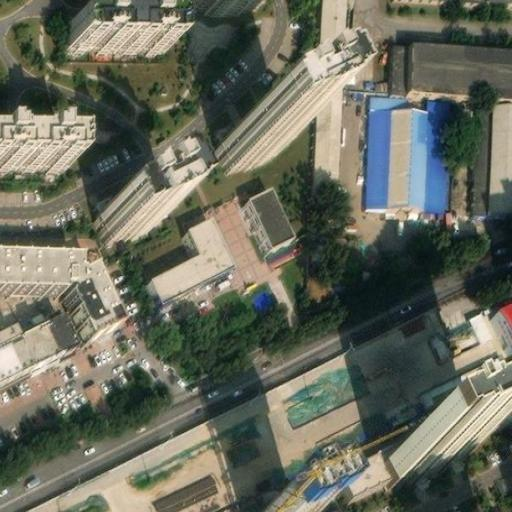building: (341, 380, 512, 489), (365, 91, 453, 204), (146, 217, 232, 301), (0, 302, 90, 378), (386, 410, 481, 472), (411, 34, 512, 88), (222, 111, 293, 169), (94, 189, 162, 243), (67, 22, 171, 51), (488, 95, 512, 208), (242, 195, 285, 254), (471, 98, 494, 208), (0, 133, 70, 163), (488, 296, 512, 350), (258, 487, 308, 512), (389, 33, 413, 84), (204, 0, 271, 7)
